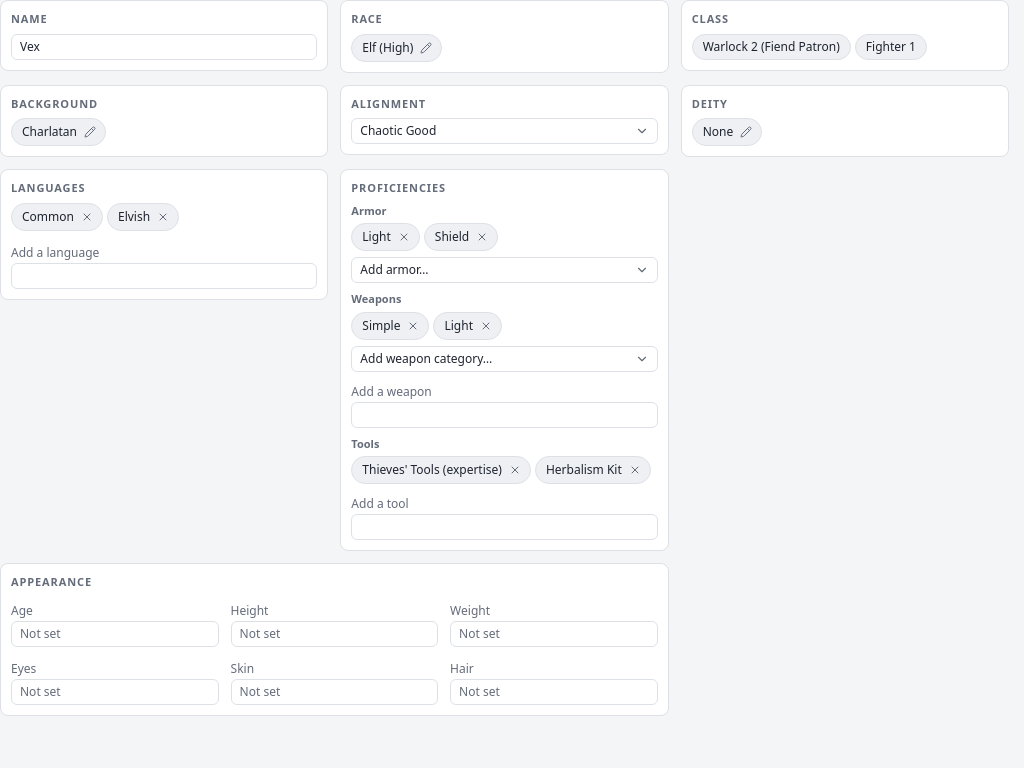
Test case: IdentitySection › toasts a failed save in the Name card with Retry, leaving the card as it was
This screenshot has width=1024, height=768.
Replace the text in the field named "Name" with "Nyx" at (164, 46), box [11,34,317,60]
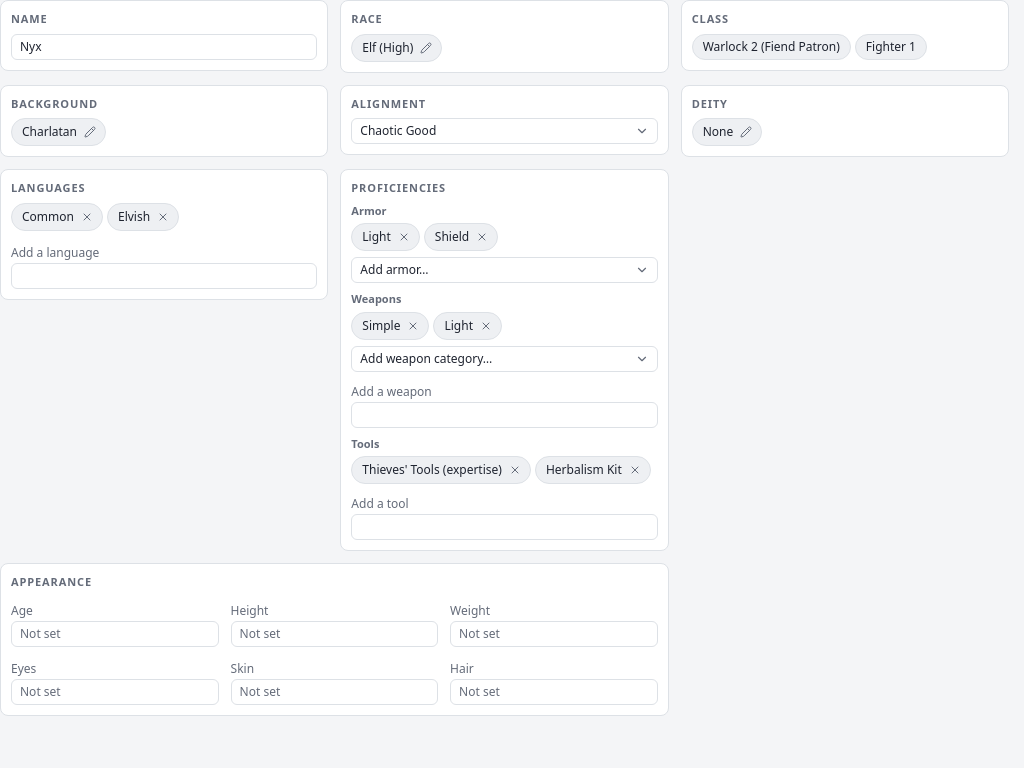
Leave the field named "Name", box [11,34,317,60]
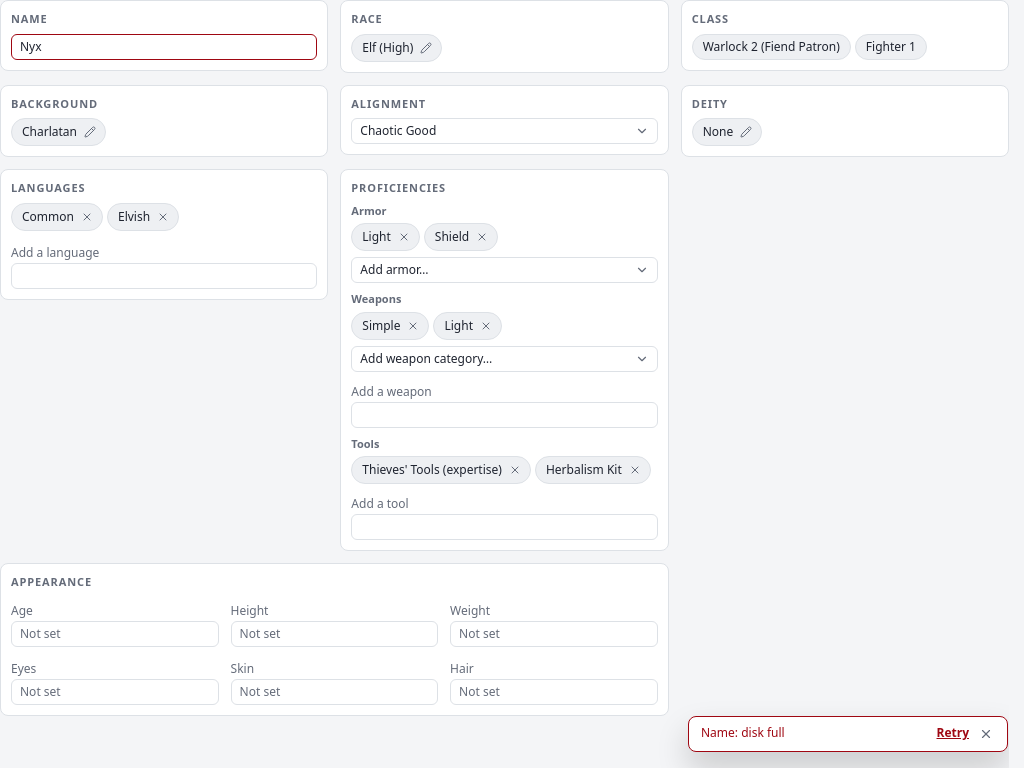
Expected: the element "Name" does not show "disk full", [0,0,328,70]
Expected: the button "Retry " is shown, [936,725,969,741]
